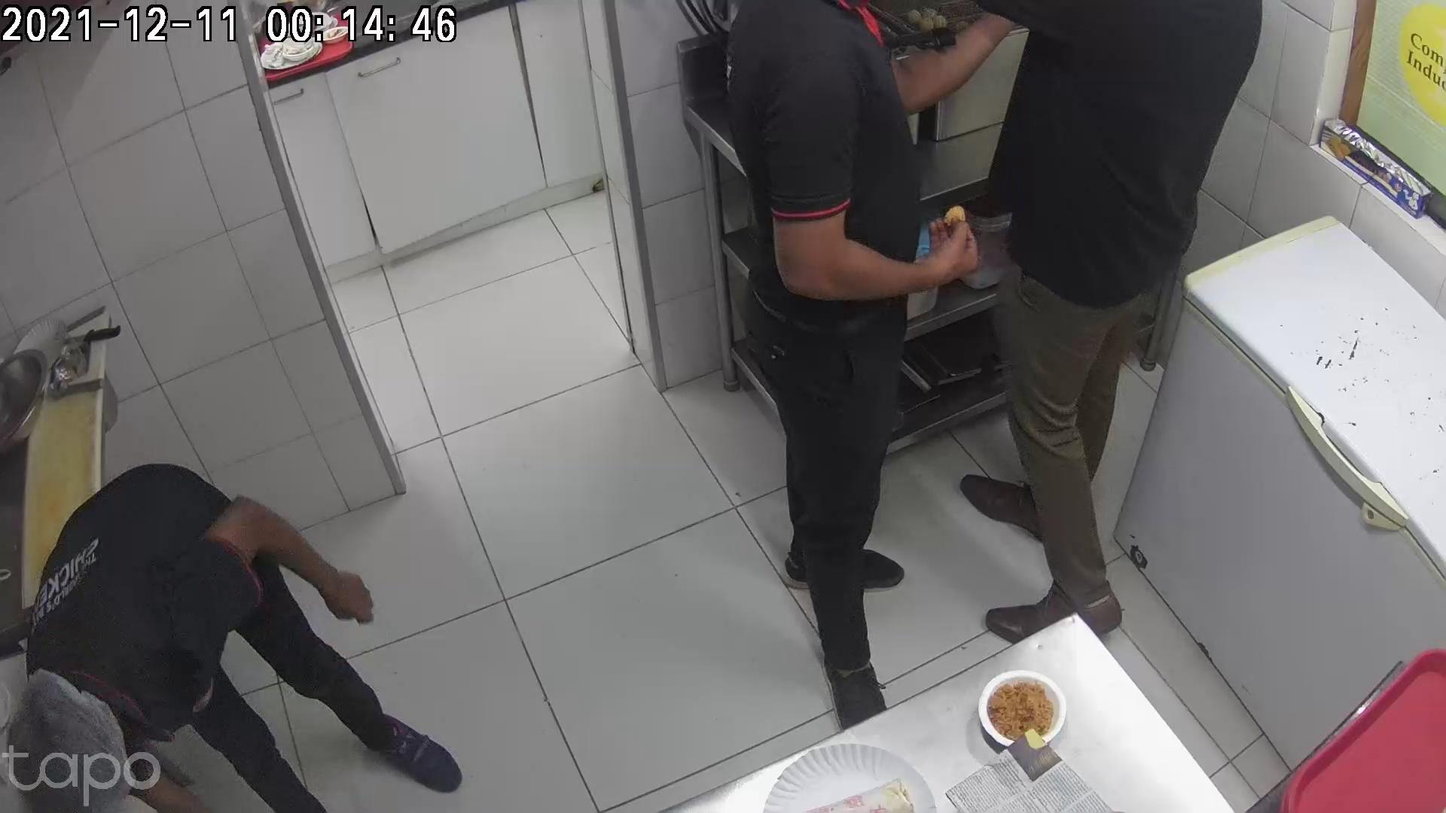no_gloves: (280, 631, 449, 771)
